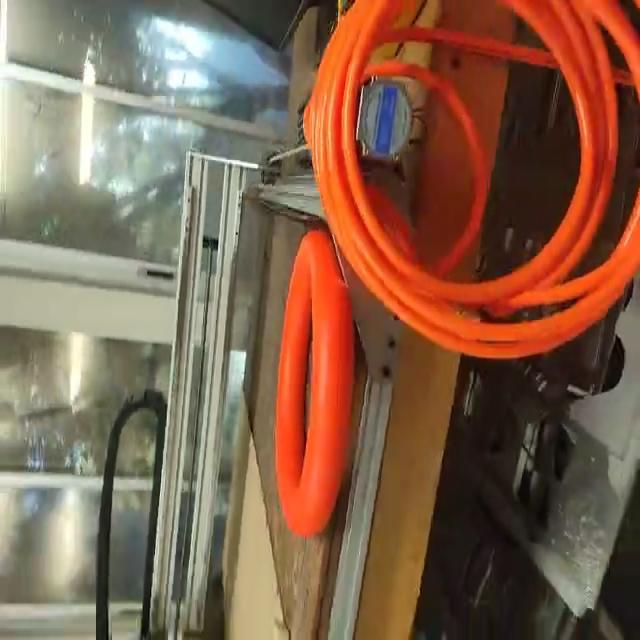note: (273, 226, 357, 540)
